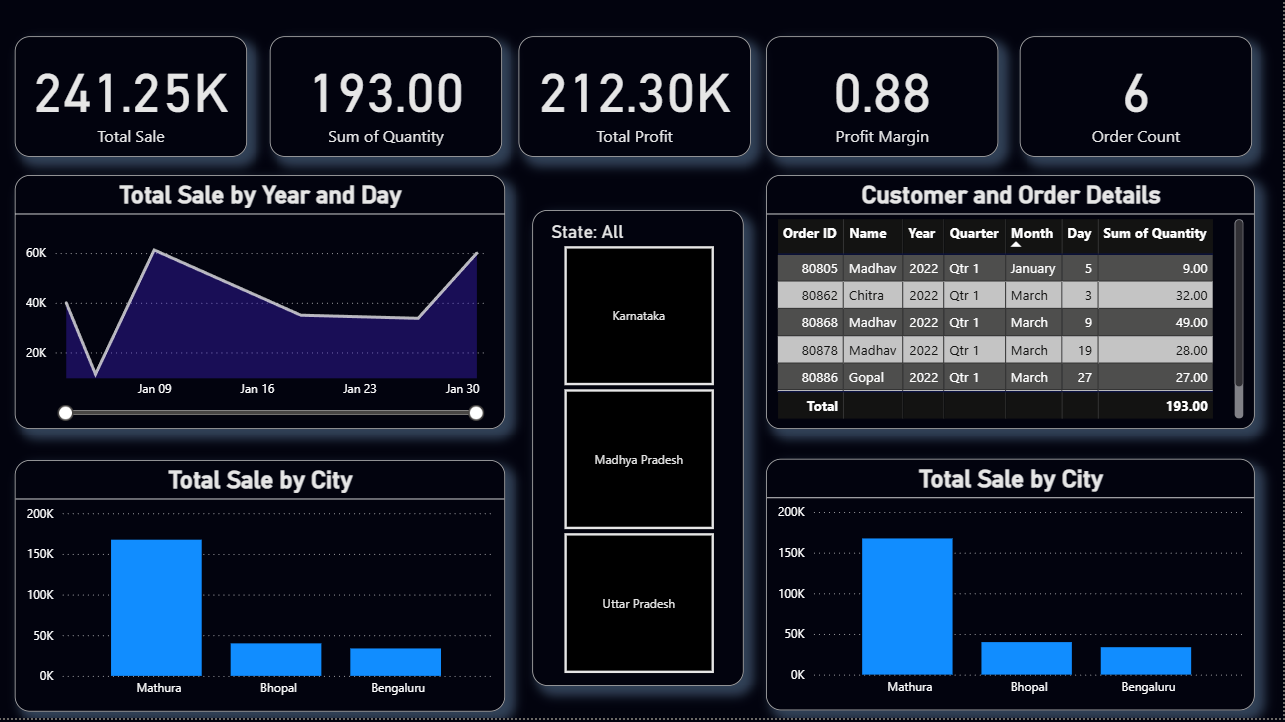

The dashboard page shown, as its layout file describes it:
{"tool":"powerbi","page":{"name":"Product Details","canvas":[1280,720],"ordinal":1},"visuals":[{"type":"card","fields":{"Values":["Orders.Total Sale"]},"box":[18.7,41.1,231,120],"z":0},{"type":"card","fields":{"Values":["Orders.Quantity"]},"box":[272.4,41.1,231,120],"z":1000},{"type":"card","fields":{"Values":["Orders.Total Profit"]},"box":[520,41.1,231,120],"z":2000},{"type":"lineChart","fields":{"Category":["Customers.Order Date.Variation.Date Hierarchy.Year","Customers.Order Date.Variation.Date Hierarchy.Day"],"Y":["Orders.Total Sale"]},"box":[18.7,179.1,487.6,252.5],"z":3000},{"type":"clusteredColumnChart","fields":{"Category":["Customers.City"],"Y":["Orders.Total Sale"]},"box":[18.7,462.8,487.6,250],"z":4000},{"type":"tableEx","title":" Customer and Order Details","fields":{"Values":["Orders.Order ID","Customers.Name","Customers.Order Date.Variation.Date Hierarchy.Year","Customers.Order Date.Variation.Date Hierarchy.Quarter","Customers.Order Date.Variation.Date Hierarchy.Month","Customers.Order Date.Variation.Date Hierarchy.Day","Orders.Quantity"]},"box":[766.3,179.1,486.4,252.5],"z":5000},{"type":"card","fields":{"Values":["Orders.Profit Margin"]},"box":[766.3,41.1,231,120],"z":6000},{"type":"slicer","fields":{"Values":["Customers.State"]},"box":[533.7,214,210.2,473.9],"z":7000},{"type":"card","fields":{"Values":["Orders.Order Count"]},"box":[1018.8,41.1,231,120],"z":8000},{"type":"columnChart","fields":{"Category":["Customers.City"],"Y":["Orders.Total Sale"]},"box":[766.3,461.5,486.4,250],"z":9000}]}

Visuals, with their boxes in screenshot pixels (x1, y1, x2, y2), scaled from the page's 1280x720 canvas onto the 1285x722 screenshot:
card - Orders.Total Sale: left=19, top=41, right=251, bottom=162
card - Orders.Quantity: left=273, top=41, right=505, bottom=162
card - Orders.Total Profit: left=522, top=41, right=754, bottom=162
lineChart - Customers.Order Date.Variation.Date Hierarchy.Year x Customers.Order Date.Variation.Date Hierarchy.Day: left=19, top=180, right=508, bottom=433
clusteredColumnChart - Customers.City x Orders.Total Sale: left=19, top=464, right=508, bottom=715
" Customer and Order Details" tableEx: left=769, top=180, right=1258, bottom=433
card - Orders.Profit Margin: left=769, top=41, right=1001, bottom=162
slicer - Customers.State: left=536, top=215, right=747, bottom=690
card - Orders.Order Count: left=1023, top=41, right=1255, bottom=162
columnChart - Customers.City x Orders.Total Sale: left=769, top=463, right=1258, bottom=713
